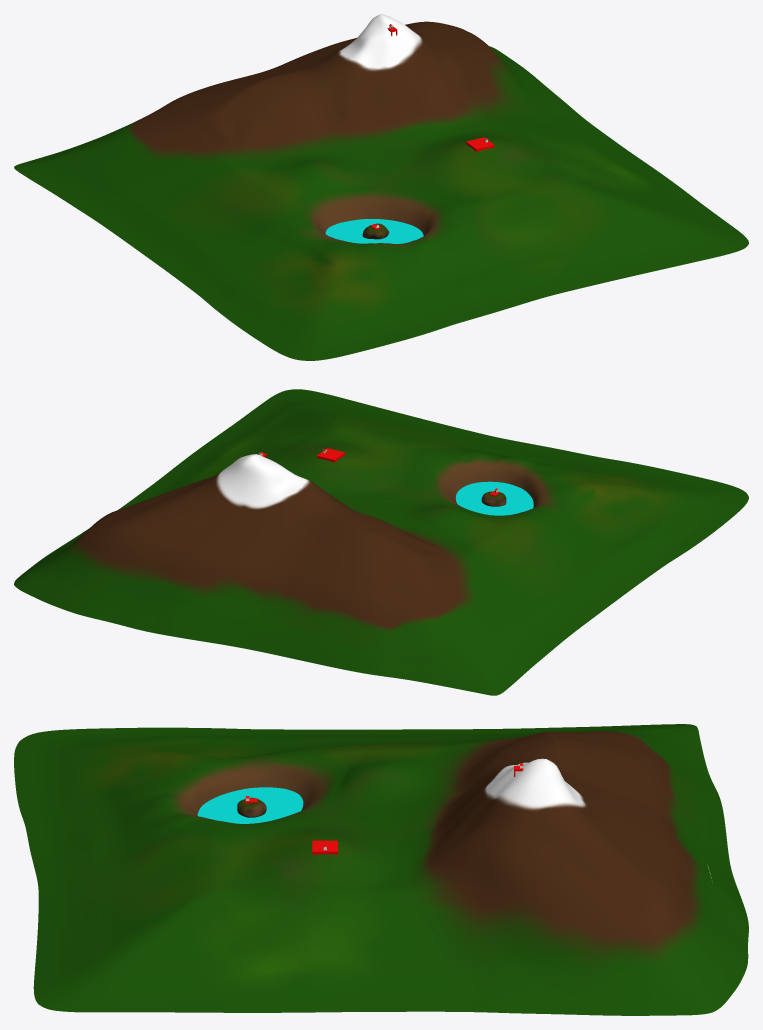
The model's file is Terrain.obj.
The picture shows the model from 3 angles, top to bottom: view 1: azimuth 30°, elevation 25°; view 2: azimuth 150°, elevation 25°; view 3: azimuth 270°, elevation 25°; orthographic projection. The views are drawn at different scales.
Visible parts, largest first — view 1: Platform_3_Cube.007; view 2: Platform_3_Cube.007; view 3: Platform_3_Cube.007.
Part boxes in pixels (x1,y1,x2,y2): Platform_3_Cube.007: [14, 14, 748, 360]; Platform_3_Cube.007: [14, 389, 748, 695]; Platform_3_Cube.007: [14, 724, 748, 1015].
Size of the model in its own units: 1293 by 310 by 1376.
4 materials, 4 textured.
